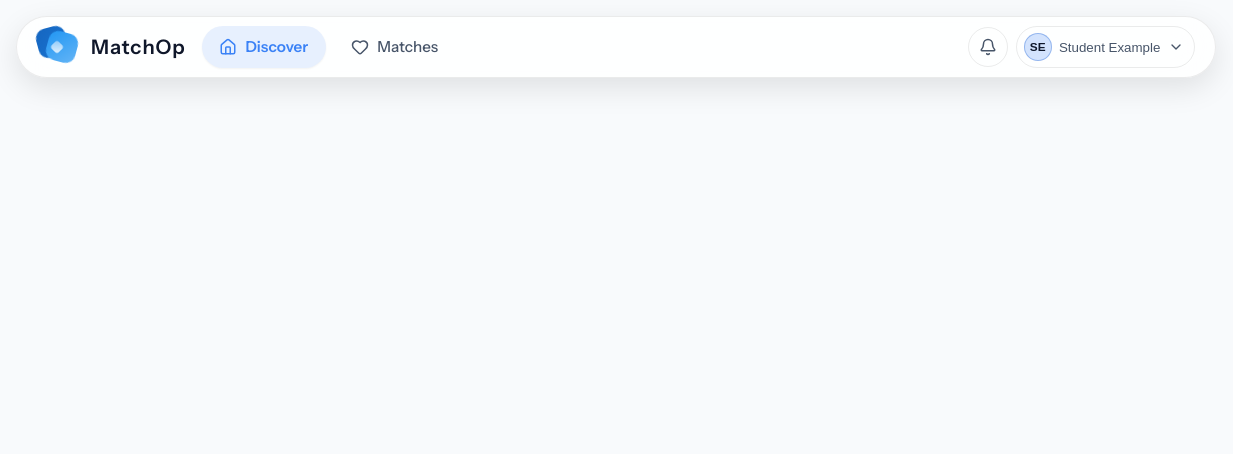
Scenario: Navbar desktop IA › shows student profile menu with secondary items
The width and height of the screenshot is (1233, 454).
Click the button with aria-label "Open profile menu" at (1106, 47), box [1016, 26, 1195, 68]
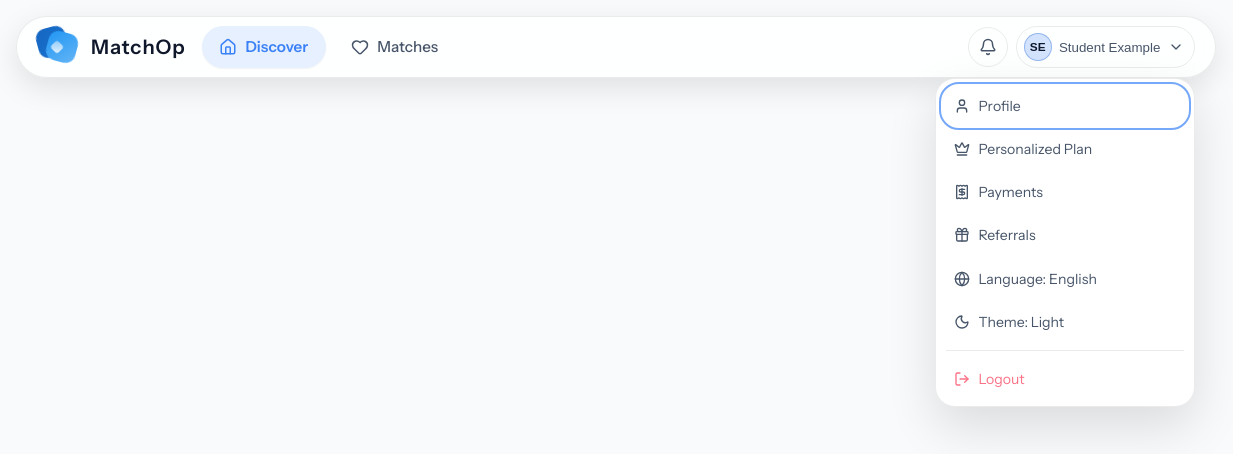
Expected: the menu item "Profile" is shown, [954, 96, 1021, 114]
Expected: the menu item "Personalized Plan" is shown, [954, 140, 1092, 158]
Expected: the menu item "Payments" is shown, [954, 183, 1043, 201]
